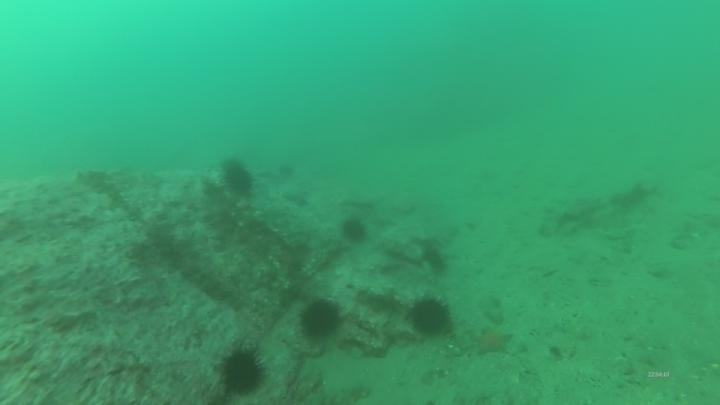echinus: (217, 345, 269, 397), (297, 296, 344, 342), (406, 294, 453, 339), (419, 242, 450, 275), (338, 215, 370, 245), (225, 169, 257, 198), (210, 155, 242, 184), (276, 161, 297, 181)
starfish: (471, 323, 515, 358), (281, 187, 313, 209)
